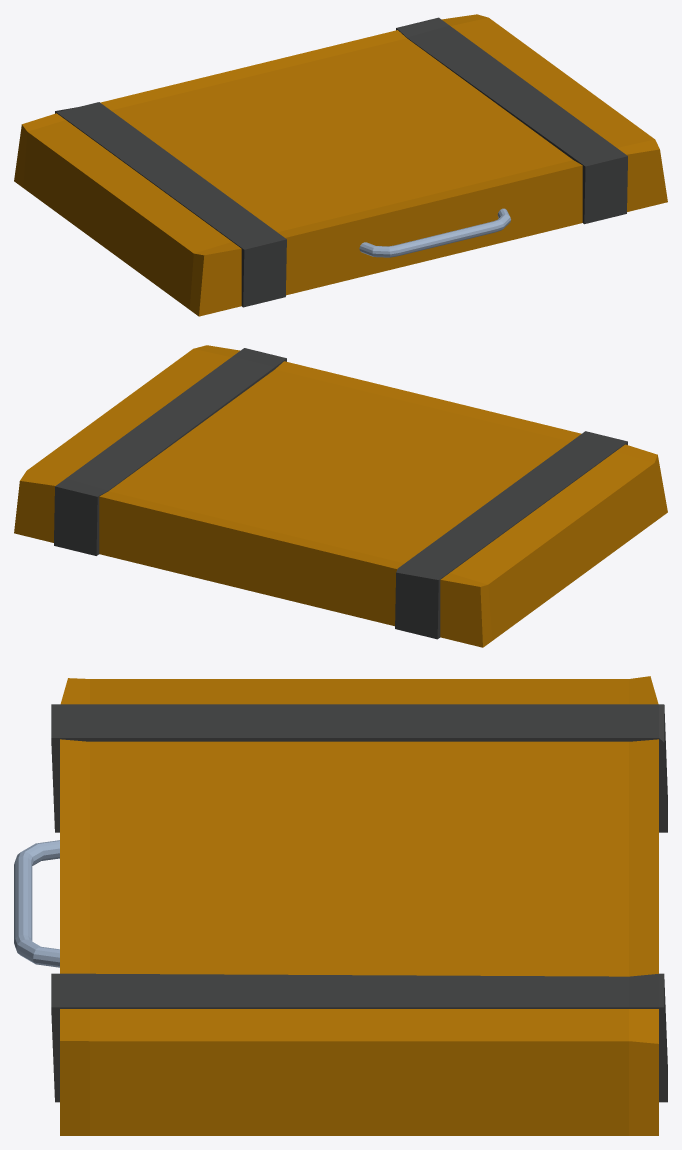
File: pirate chest lid.fbx
3 views of the same model, one above another, from view 1: azimuth 30°, elevation 25°; view 2: azimuth 150°, elevation 25°; view 3: azimuth 270°, elevation 25° (orthographic). The views are drawn at different scales.
Parts seen in each view (by area): view 1: Lid; view 2: Lid; view 3: Lid.
Boxes of the visible parts, x1,y1,x2,y2 form: Lid: (14, 14, 667, 316); Lid: (14, 345, 667, 647); Lid: (14, 676, 667, 1135).
Size of the model in its own units: 41 by 4.89 by 30.58.
